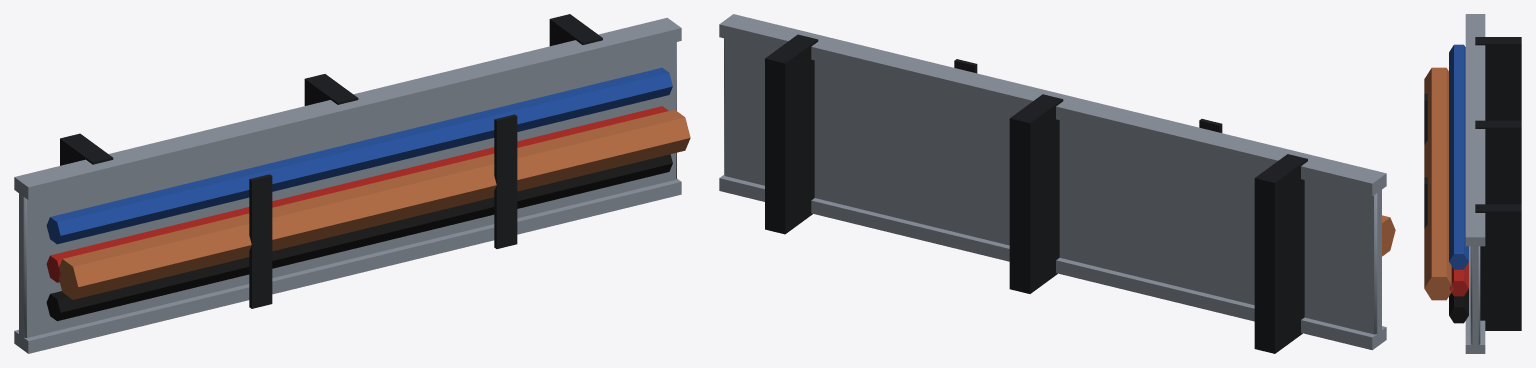
The model's file is junction_cable_tray_segment.glb.
The picture shows the model from 3 angles, left to right: view 1: azimuth 30°, elevation 25°; view 2: azimuth 150°, elevation 25°; view 3: azimuth 270°, elevation 25°; orthographic projection. The views are drawn at different scales.
Parts seen in each view (by area): view 1: junction_cable_tray_segment; view 2: junction_cable_tray_segment; view 3: junction_cable_tray_segment.
Part boxes in pixels (box(x1,y1,x2,y2)): junction_cable_tray_segment: box(14, 14, 690, 353); junction_cable_tray_segment: box(719, 14, 1395, 353); junction_cable_tray_segment: box(1424, 14, 1521, 353).
Bounding box in the file's own units: 1.6 × 0.4 × 0.295.
